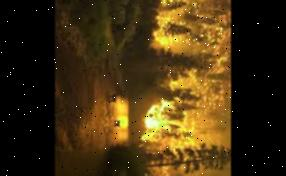fire: (180, 46, 230, 144), (153, 0, 231, 43), (138, 96, 178, 146)
